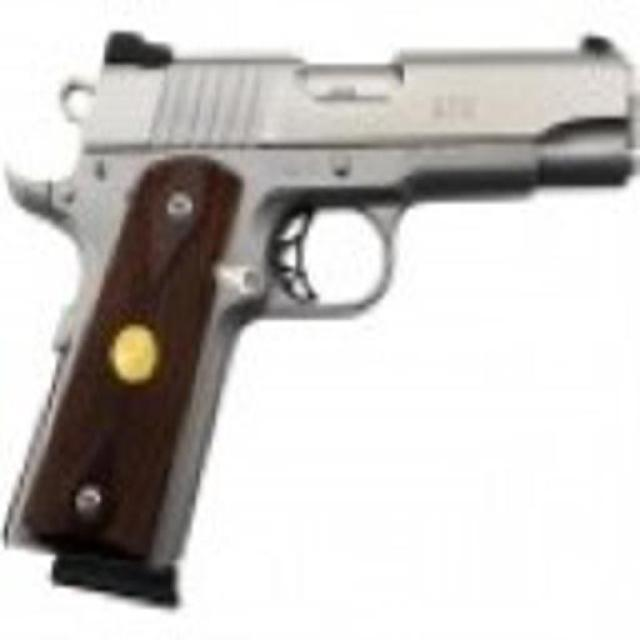pistol: (4, 21, 628, 586)
